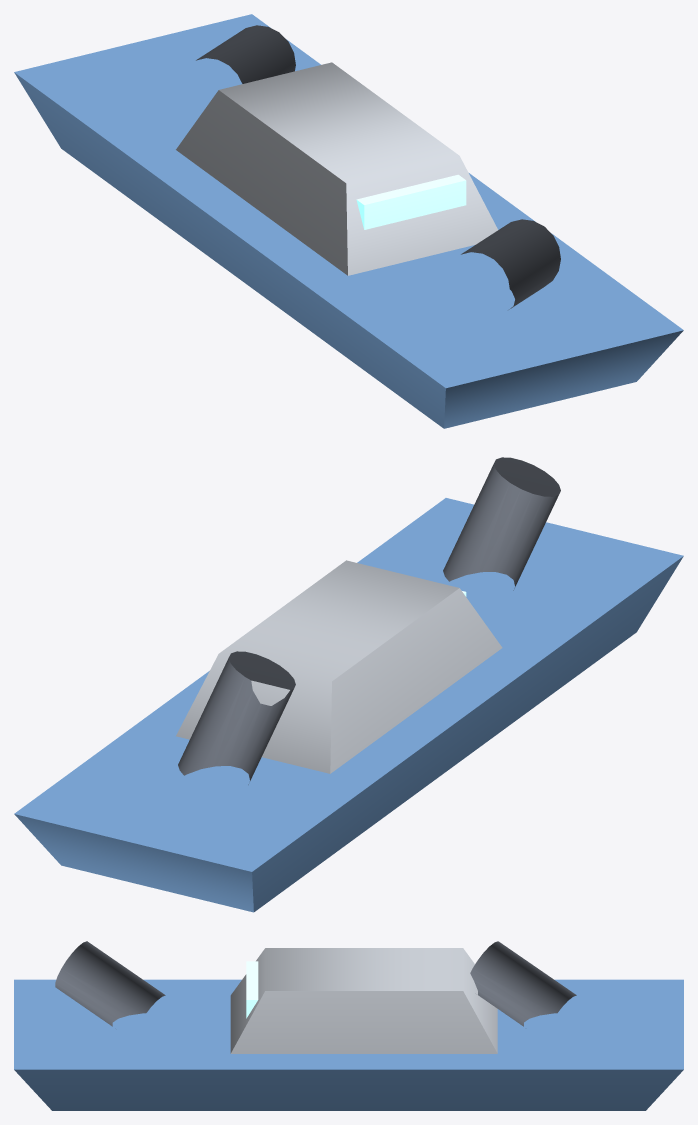
Rendered from aegis.glb.
The picture shows the model from 3 angles, top to bottom: view 1: azimuth 30°, elevation 25°; view 2: azimuth 150°, elevation 25°; view 3: azimuth 270°, elevation 25°; orthographic projection. The views are drawn at different scales.
Parts seen in each view (by area): view 1: Hull, Turret; view 2: Hull, Turret; view 3: Hull, Turret.
Part boxes in pixels (bbox=[...]): Hull: bbox=[14, 14, 683, 428]; Turret: bbox=[176, 25, 560, 309]; Hull: bbox=[14, 485, 683, 912]; Turret: bbox=[176, 457, 560, 780]; Hull: bbox=[14, 969, 683, 1110]; Turret: bbox=[55, 941, 576, 1053].
Bounding box in the file's own units: 1.68 × 1.13 × 5.28.
